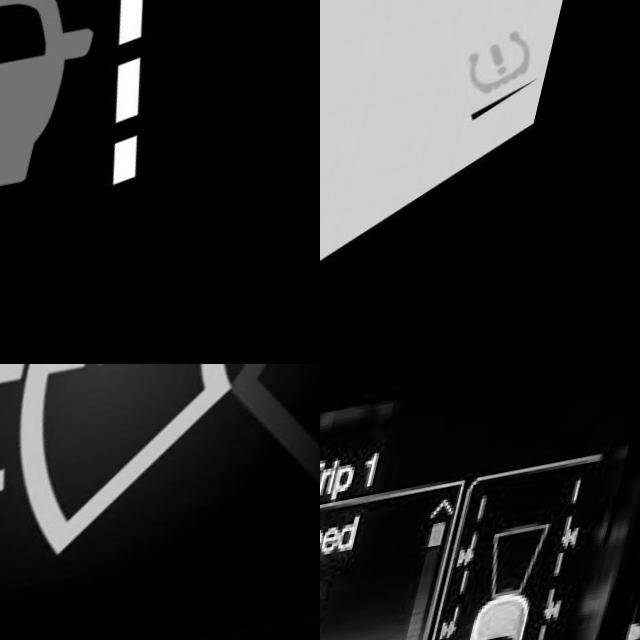Washer Fluid: (0, 364, 303, 589)
